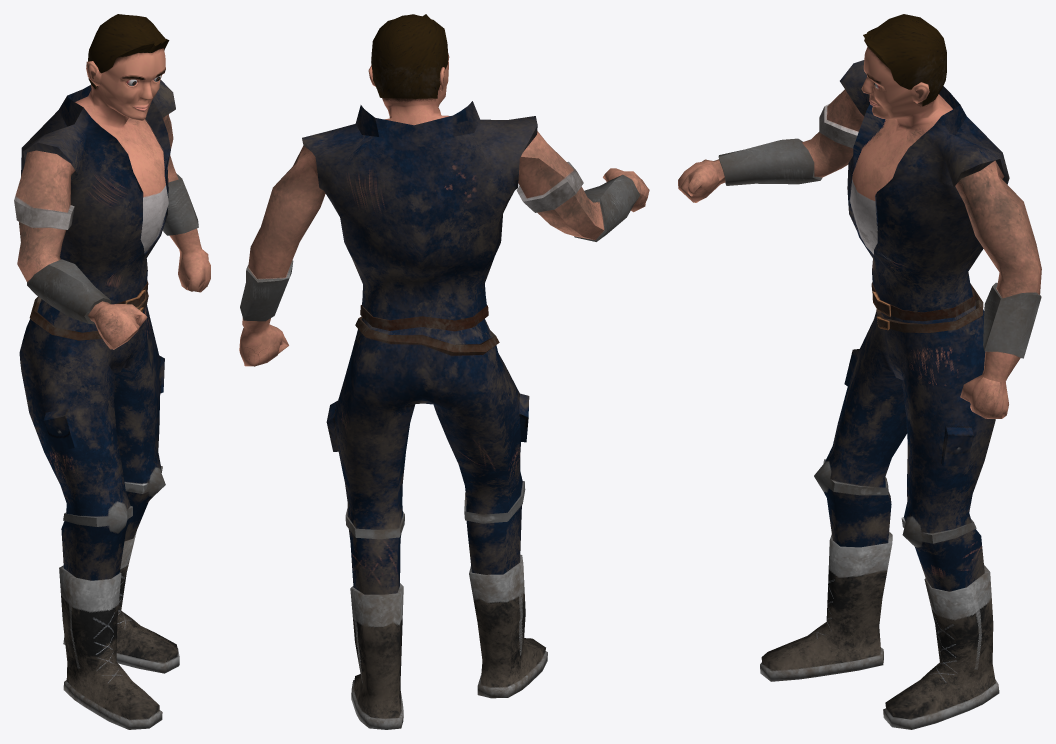
Rendered from Anim_puerta_mal_jugador.0021.obj.
3 views of the same model, side by side, from view 1: azimuth 30°, elevation 25°; view 2: azimuth 150°, elevation 25°; view 3: azimuth 270°, elevation 25° (orthographic). The views are drawn at different scales.
Parts seen in each view (by area): view 1: polySurface1; view 2: polySurface1; view 3: polySurface1.
Boxes of the visible parts, <box> form: polySurface1: <box>14,14,210,729</box>; polySurface1: <box>239,14,649,729</box>; polySurface1: <box>678,14,1041,729</box>.
Bounding box in the file's own units: 4.07 × 9.59 × 4.61.
